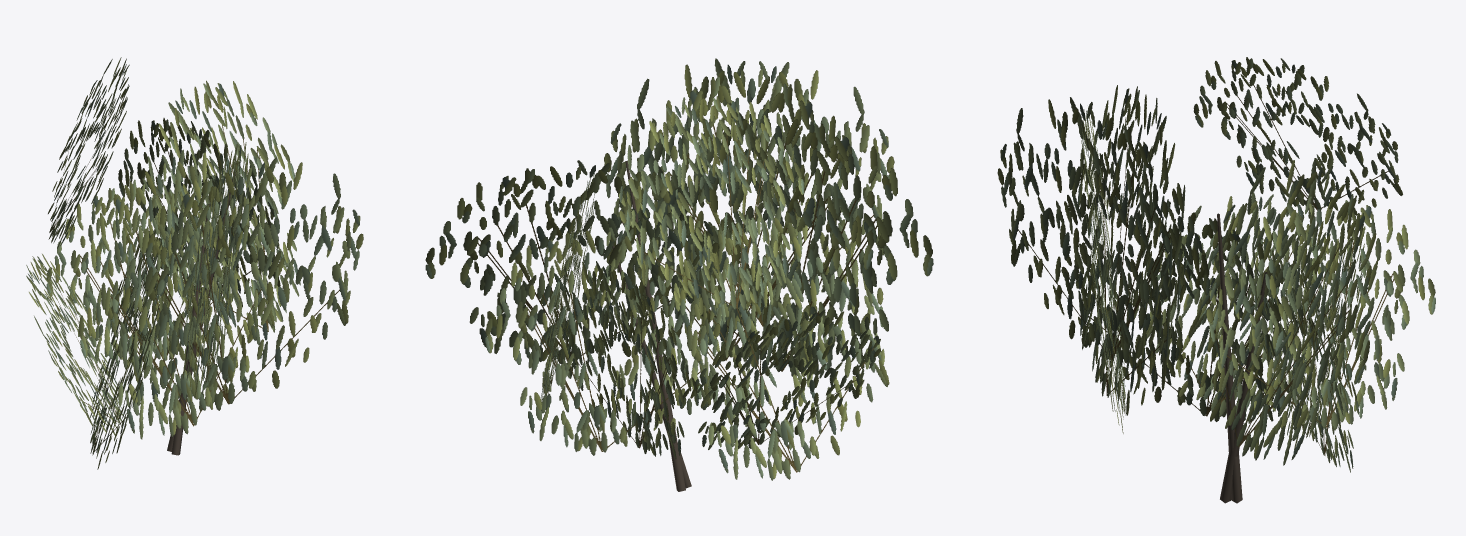
File: tpl_rec_bank_dike_osier_lo.glb
3 views of the same model, side by side, from view 1: azimuth 30°, elevation 25°; view 2: azimuth 150°, elevation 25°; view 3: azimuth 270°, elevation 25° (orthographic). The views are drawn at different scales.
Parts seen in each view (by area): view 1: tpl_rec_bank_dike_osier_lo; view 2: tpl_rec_bank_dike_osier_lo; view 3: tpl_rec_bank_dike_osier_lo.
Boxes of the visible parts, x1,y1,x2,y2 form: tpl_rec_bank_dike_osier_lo: (26, 57, 363, 469); tpl_rec_bank_dike_osier_lo: (425, 58, 933, 491); tpl_rec_bank_dike_osier_lo: (997, 57, 1435, 503).
Bounding box in the file's own units: 5.44 × 5.11 × 5.
2 materials, 1 textured.
